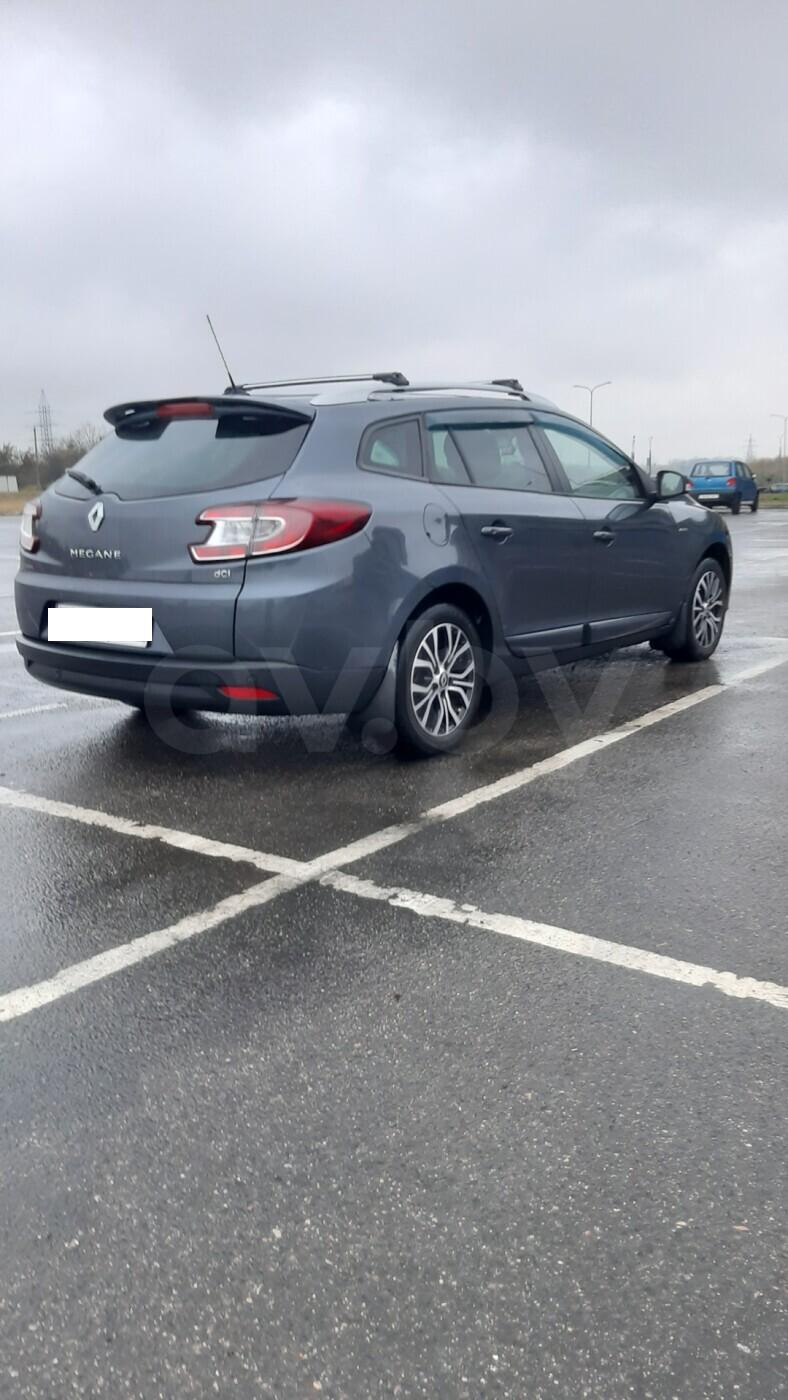Megane_2014-2016: (8, 374, 750, 774)
